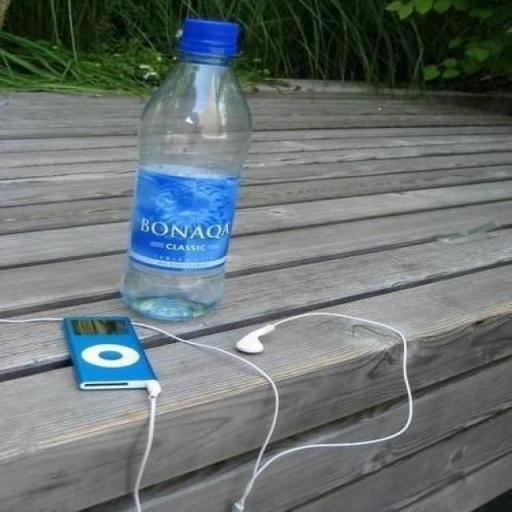plastic: (117, 16, 256, 322)
